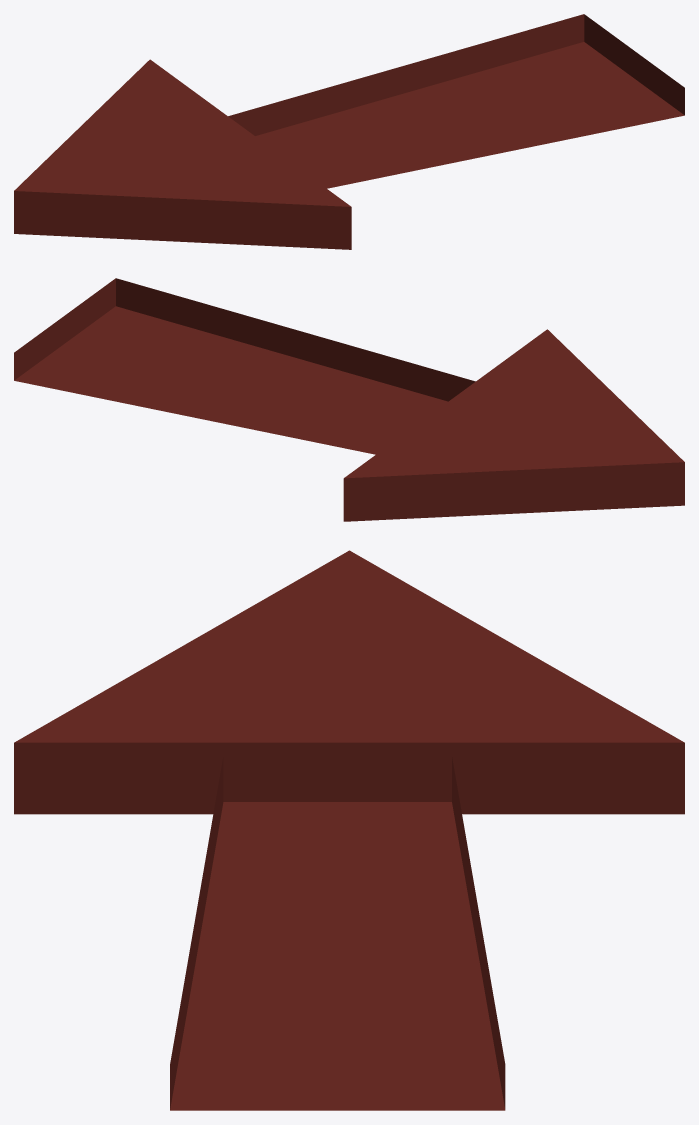
The model's file is arrow.fbx.
The picture shows the model from 3 angles, top to bottom: view 1: azimuth 30°, elevation 25°; view 2: azimuth 150°, elevation 25°; view 3: azimuth 270°, elevation 25°; orthographic projection. The views are drawn at different scales.
Parts seen in each view (by area): view 1: Plane.001; view 2: Plane.001; view 3: Plane.001.
Part boxes in pixels (box(x1,y1,x2,y2)): Plane.001: box(14, 14, 684, 249); Plane.001: box(14, 278, 684, 521); Plane.001: box(14, 550, 684, 1110).
Size of the model in its own units: 324 by 21.57 by 183.
